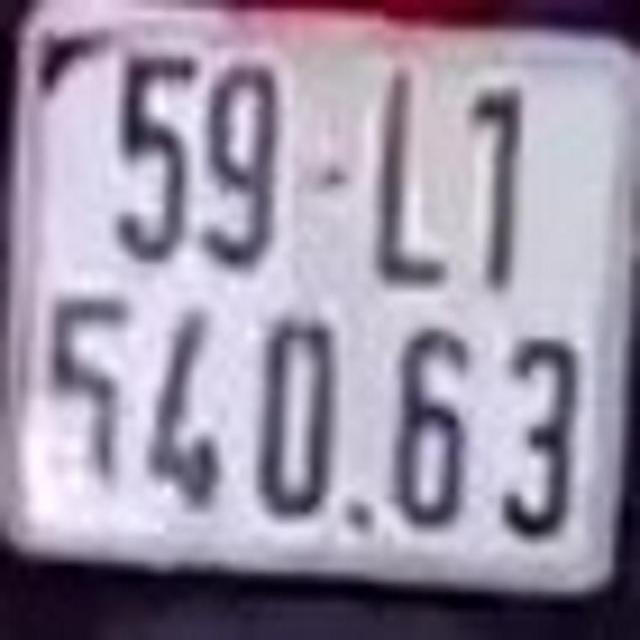0: (256, 319, 331, 515)
1: (470, 82, 526, 293)
3: (506, 332, 572, 542)
4: (155, 306, 221, 517)
5: (46, 297, 126, 522), (122, 51, 190, 260)
6: (401, 328, 466, 531)
9: (210, 62, 280, 268)
L: (372, 66, 450, 292)
